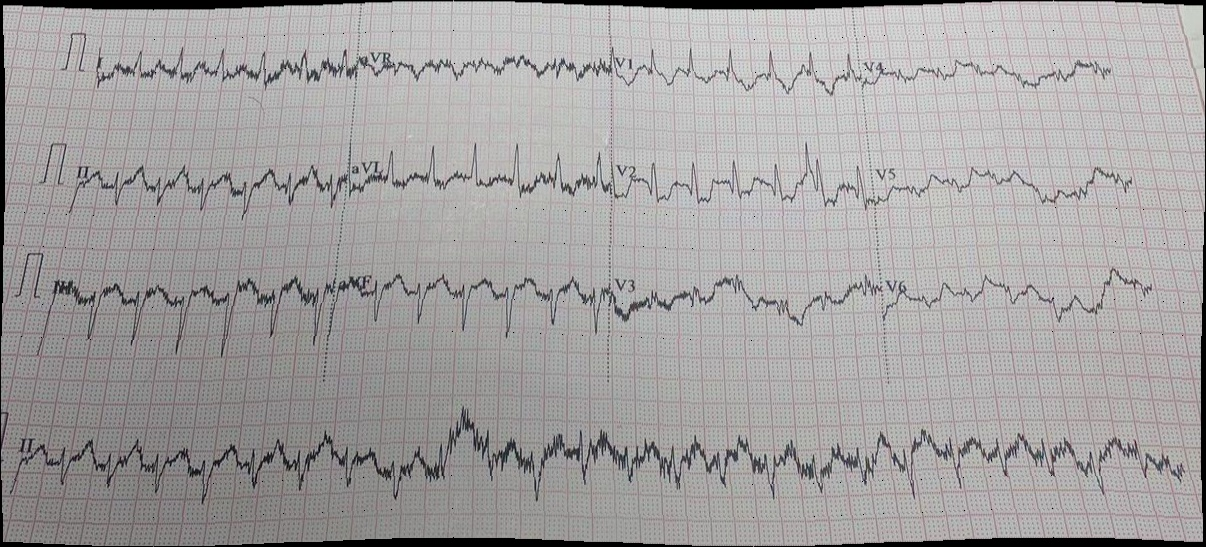Lead_I: (86, 31, 354, 107)
Lead_II: (59, 147, 347, 225)
Lead_III: (34, 262, 336, 376)
Lead_II_ext: (6, 408, 1194, 510)
Lead_V1: (611, 28, 861, 106)
Lead_V2: (611, 131, 872, 234)
Lead_V3: (611, 254, 885, 358)
Lead_V4: (860, 21, 1124, 118)
Lead_V5: (870, 143, 1146, 226)
Lead_V6: (880, 258, 1166, 335)
Lead_aVF: (333, 256, 611, 353)
Lead_aVL: (347, 135, 613, 222)
Lead_aVR: (353, 30, 611, 106)
